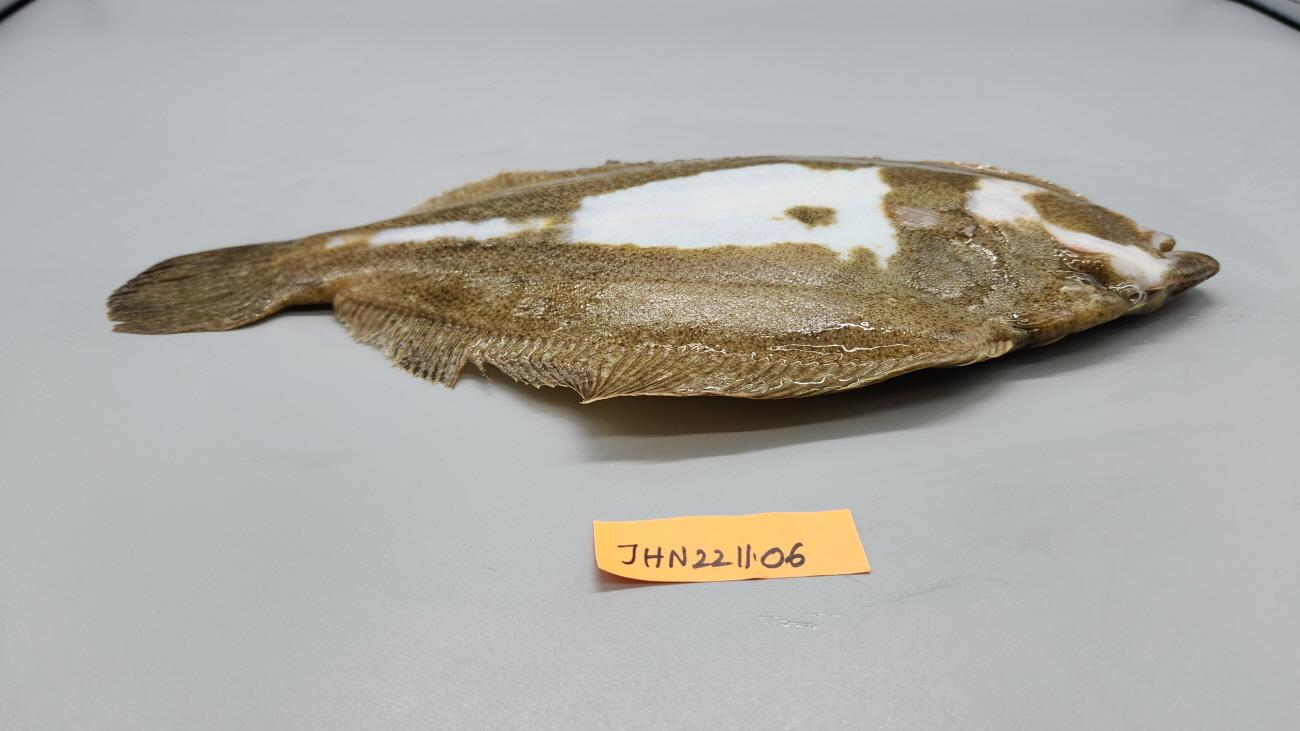POOUN: (103, 151, 1220, 406)
